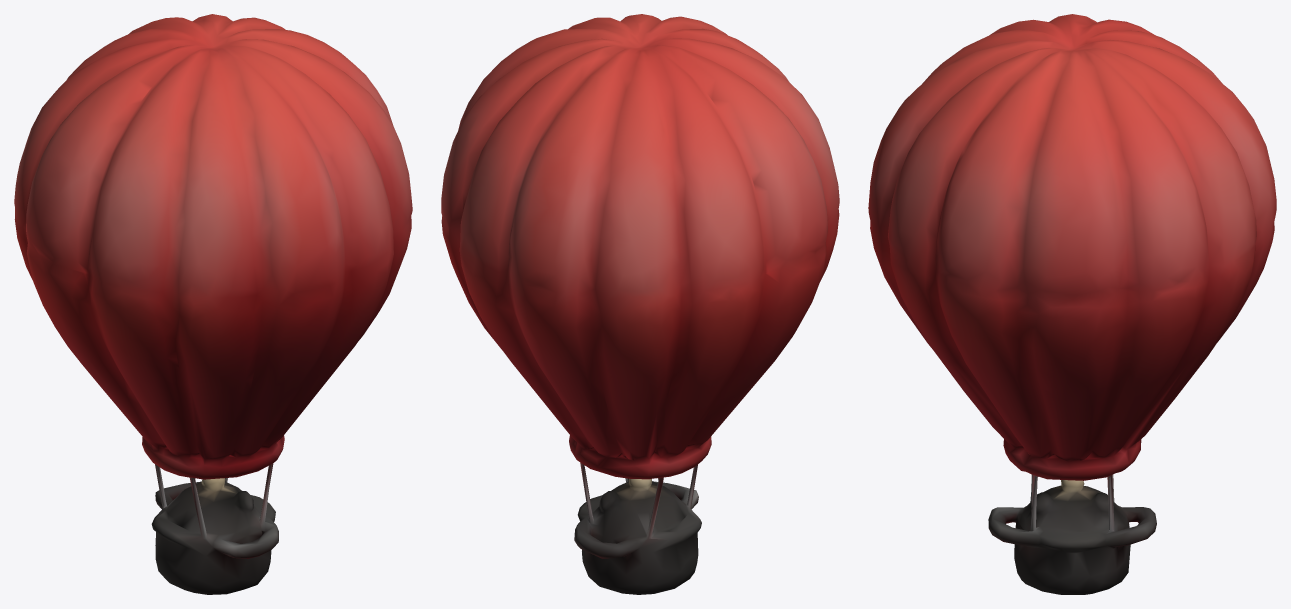
File: BalloonBomb.fbx
3 views of the same model, side by side, from view 1: azimuth 30°, elevation 25°; view 2: azimuth 150°, elevation 25°; view 3: azimuth 270°, elevation 25° (orthographic).
Visible parts, largest first — view 1: Body; view 2: Body; view 3: Body.
Part boxes in pixels (box(x1,y1,x2,y2)): Body: box(14, 14, 412, 594); Body: box(441, 14, 839, 594); Body: box(868, 14, 1276, 594).
Bounding box in the file's own units: 0.671 × 0.9788 × 0.6743.
